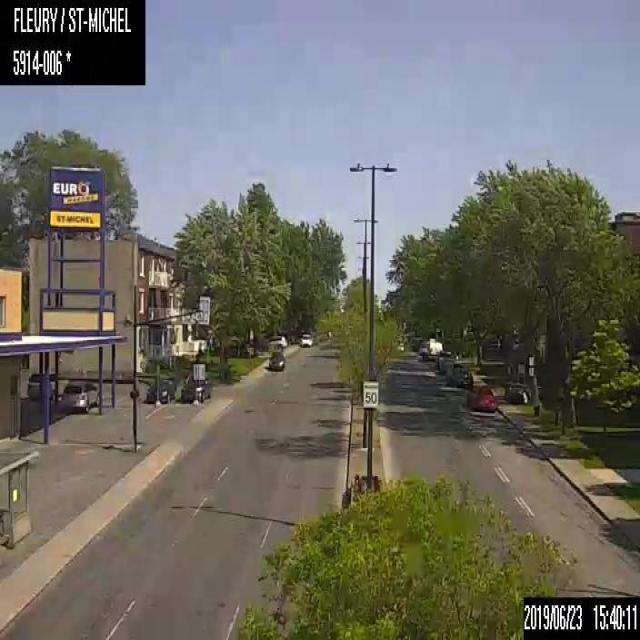vehicle: (58, 379, 98, 415), (179, 373, 211, 403), (26, 371, 56, 401), (145, 377, 176, 405), (466, 384, 496, 409), (446, 363, 470, 386), (266, 350, 284, 370), (266, 334, 286, 348), (298, 331, 314, 346)
